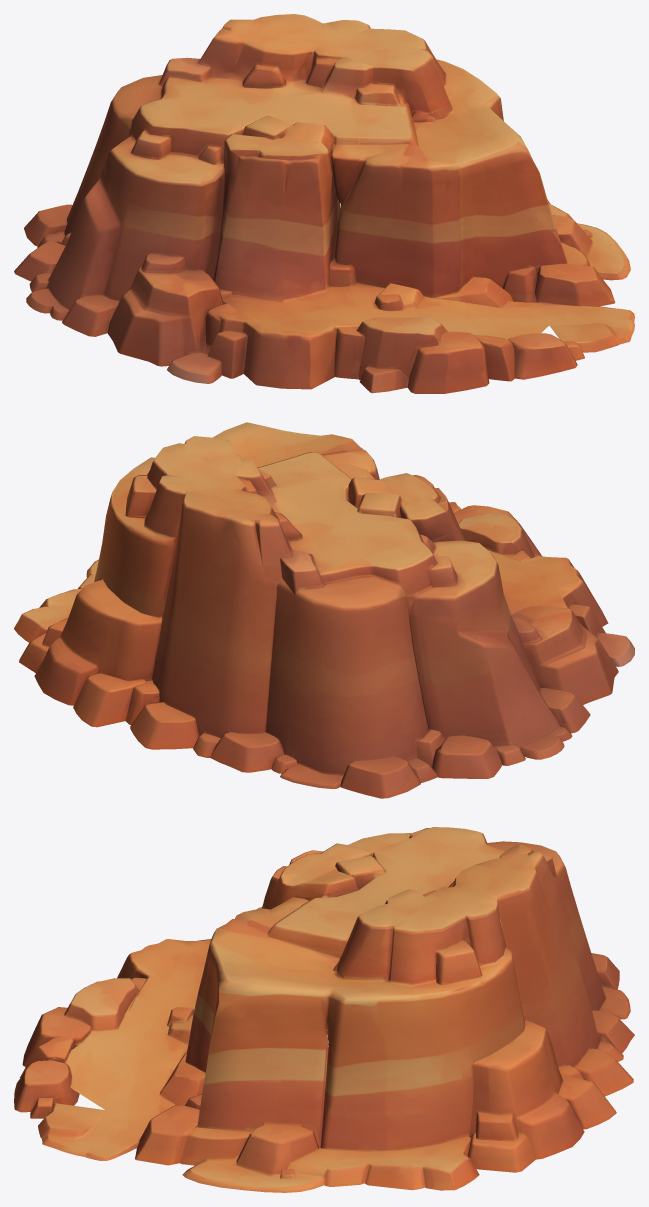
Rendered from canyon-rock-1.glb.
3 renders of one model, top to bottom at view 1: azimuth 30°, elevation 25°; view 2: azimuth 150°, elevation 25°; view 3: azimuth 270°, elevation 25°, orthographic. The views are drawn at different scales.
Visible parts, largest first — view 1: tripo_142a8866_2843_4379_bacc_b0653a1529d7; view 2: tripo_142a8866_2843_4379_bacc_b0653a1529d7; view 3: tripo_142a8866_2843_4379_bacc_b0653a1529d7.
Boxes of the visible parts, left/top/right/bottom form: tripo_142a8866_2843_4379_bacc_b0653a1529d7: left=14, top=14, right=634, bottom=393; tripo_142a8866_2843_4379_bacc_b0653a1529d7: left=14, top=422, right=634, bottom=798; tripo_142a8866_2843_4379_bacc_b0653a1529d7: left=14, top=827, right=634, bottom=1192.
Bounding box in the file's own units: 0.9995 × 0.3618 × 0.9937.
Materials: 1 (1 with a texture image).
